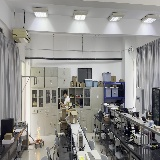fire: (35, 126, 40, 143)
